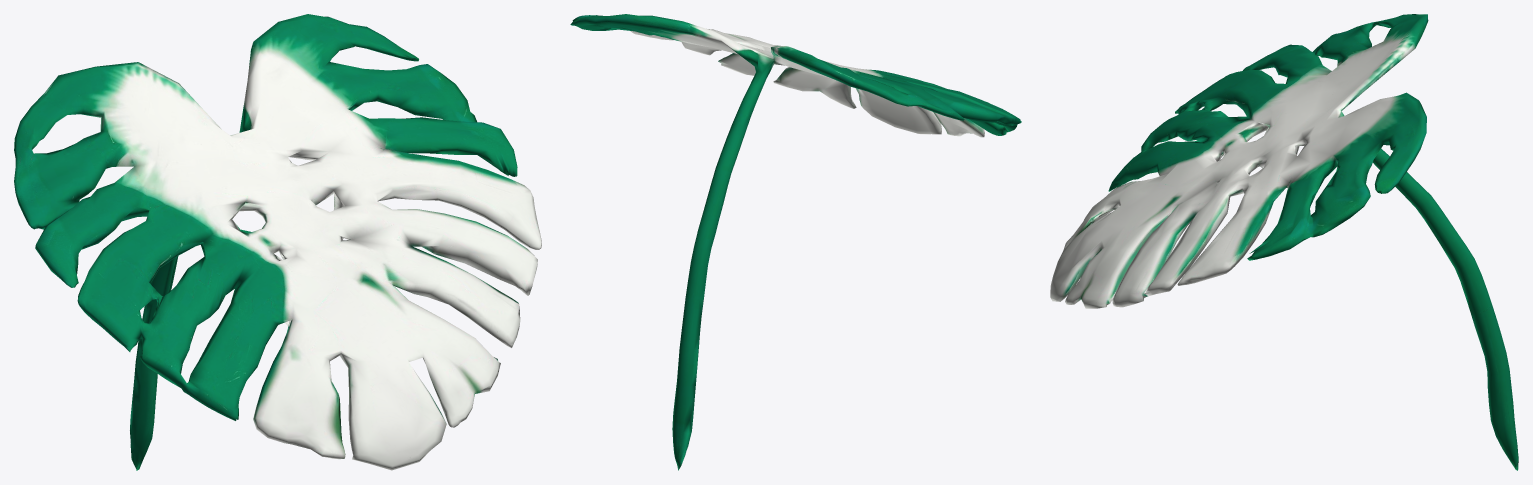
The model's file is mon_halfmoon_greencream_v1.glb.
3 renders of one model, left to right at view 1: azimuth 30°, elevation 25°; view 2: azimuth 150°, elevation 25°; view 3: azimuth 270°, elevation 25°, orthographic. The views are drawn at different scales.
Size of the model in its own units: 1.99 by 1.91 by 2.
1 material, 1 textured.
